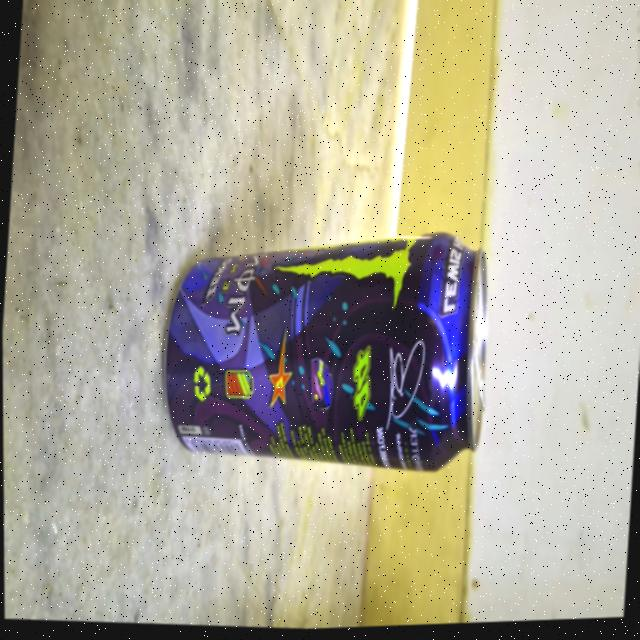Monster LH44: (150, 198, 496, 502)
